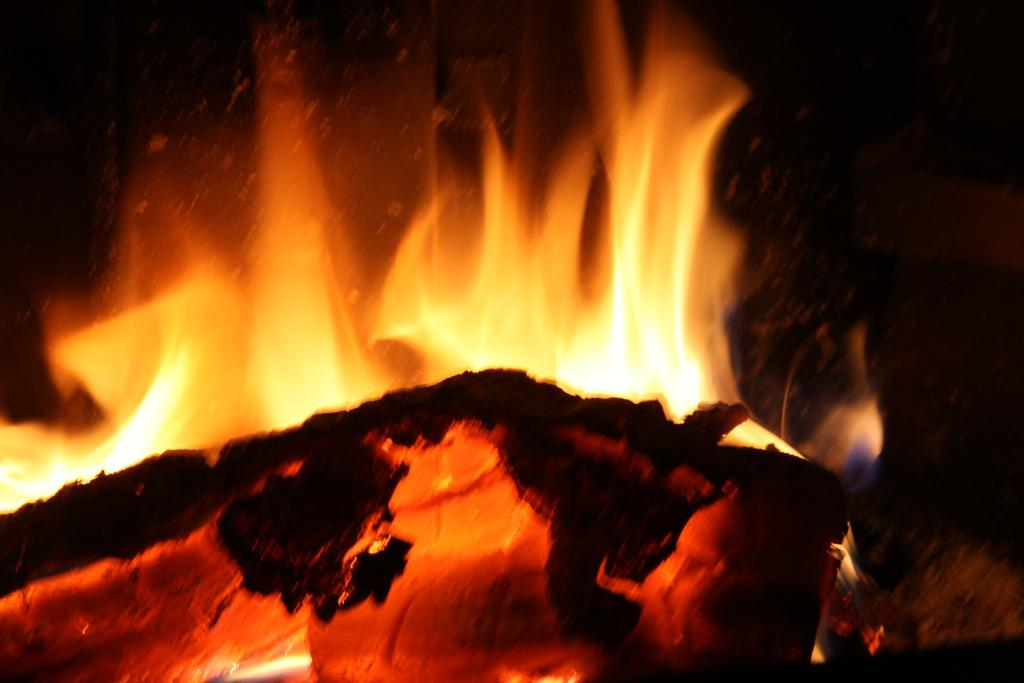fire: (65, 210, 365, 402), (413, 207, 585, 375), (615, 117, 705, 397)
